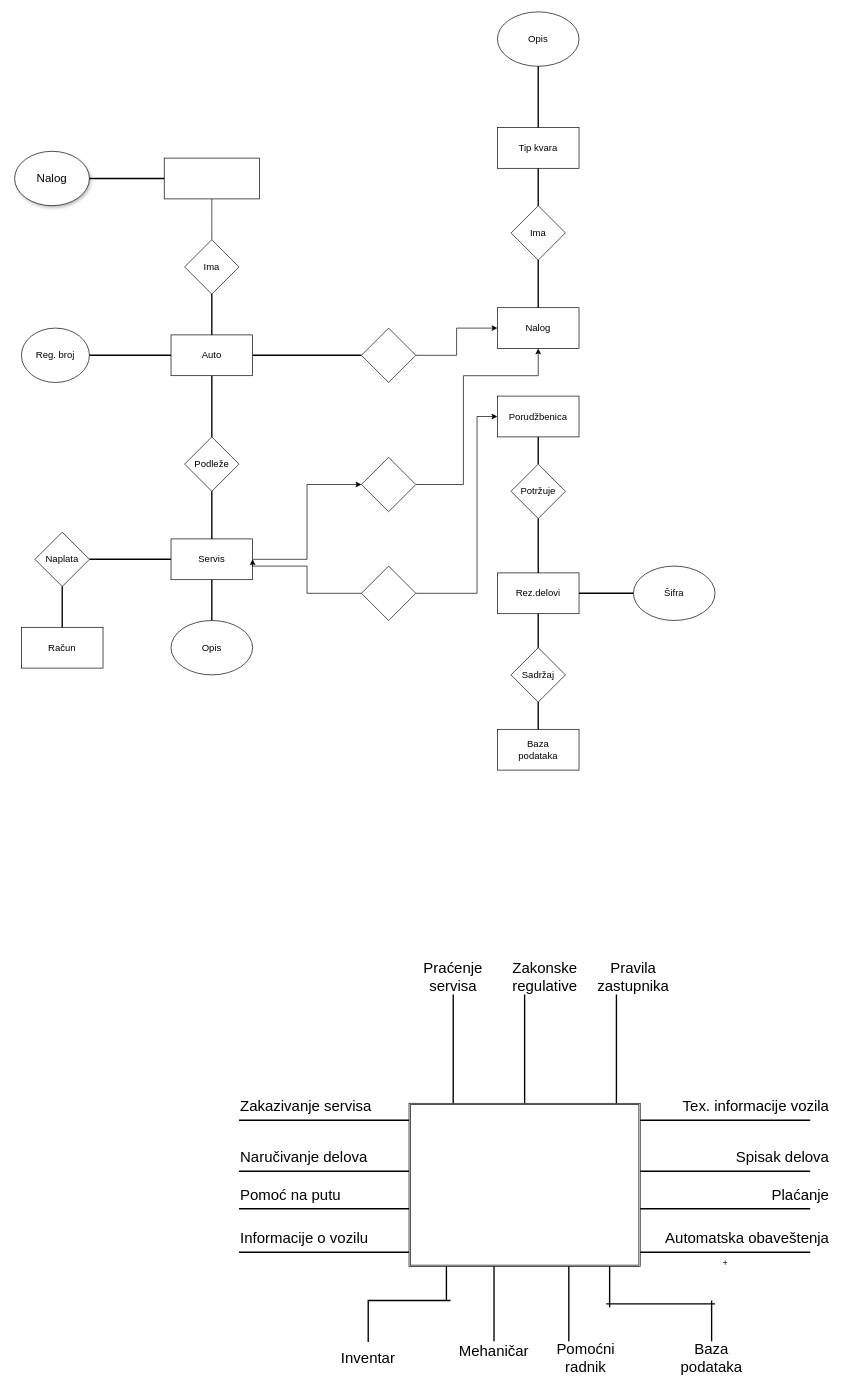
Image size: 843x1388. Some labels were removed from this diagram. Here are the shapes that lost their labels. From the top down, the centre of each, then its label:
At (211,178): "Klijent".
At (388,354): "Dobija".
At (388,484): "Odgovor".
At (388,592): "Nabavlja".
At (524,1184): "Auto servis".
